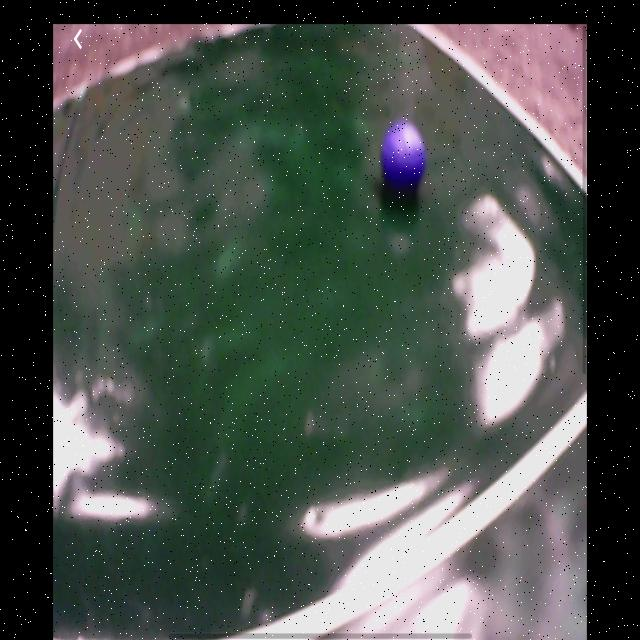ball: (381, 122, 426, 191)
